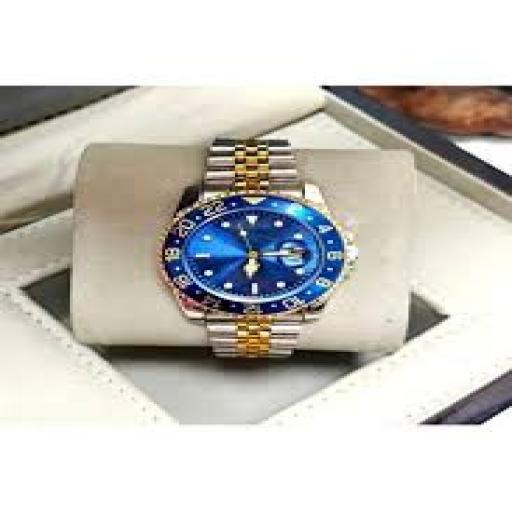KolSaati: (130, 116, 388, 404)
